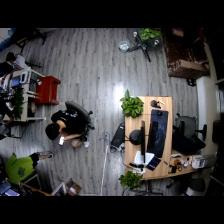normal: (2, 153, 56, 187), (45, 112, 91, 149), (3, 50, 31, 73)
